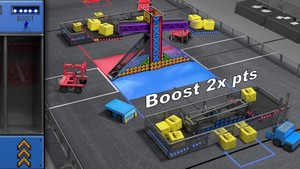cube: (217, 134, 237, 150), (239, 127, 258, 142), (168, 131, 184, 147), (165, 116, 182, 131), (154, 122, 170, 135), (242, 88, 256, 102), (88, 18, 101, 31), (99, 23, 112, 34), (202, 19, 215, 30), (190, 19, 202, 29), (72, 22, 83, 32)
